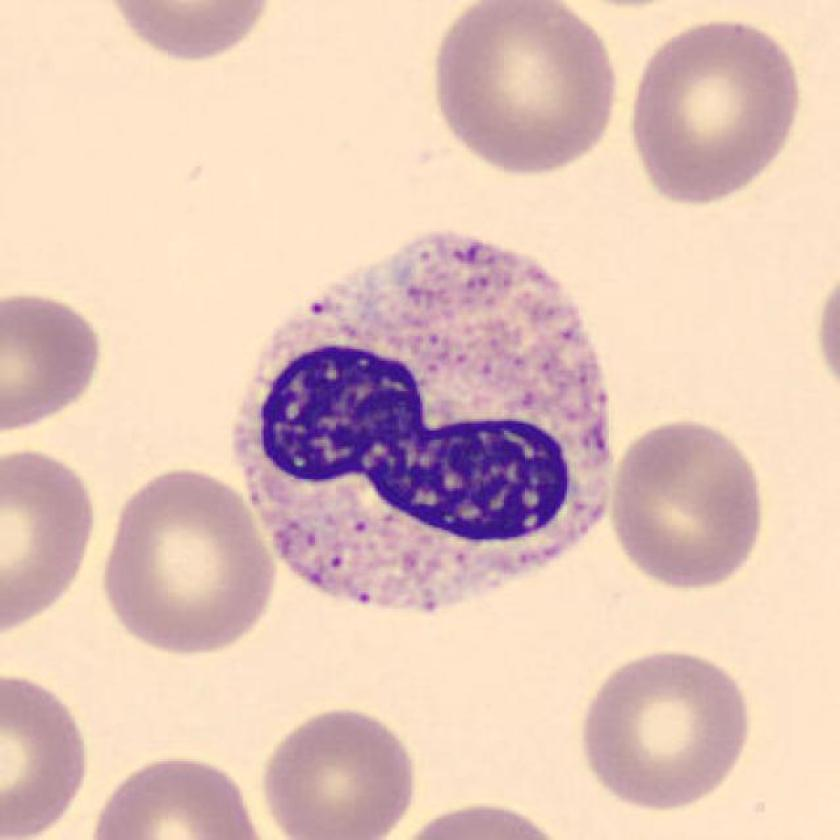neutrophil: (232, 233, 613, 609)
